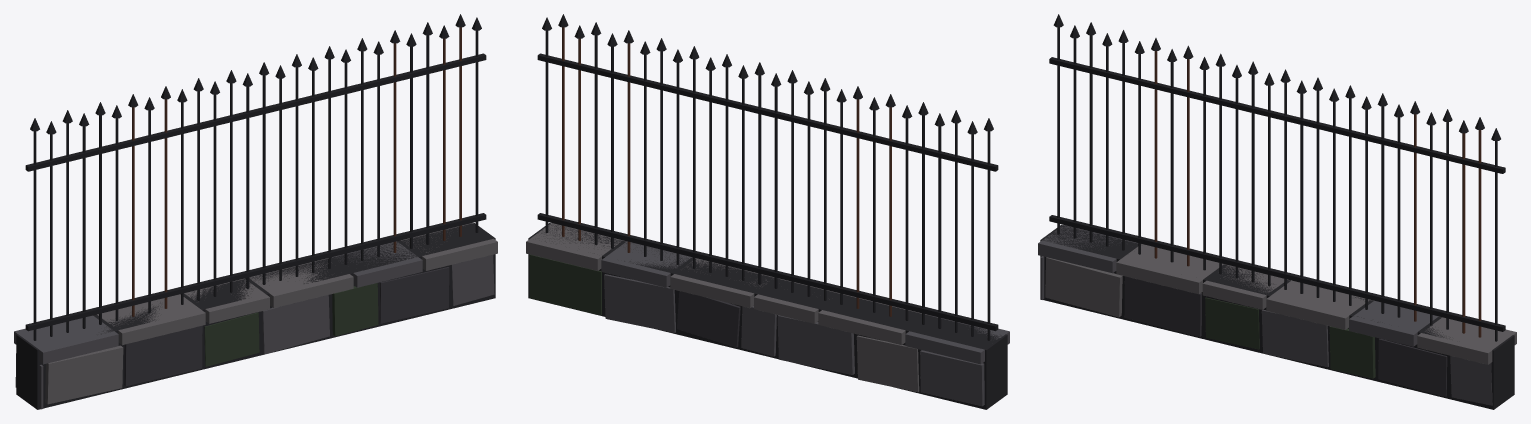
The model's file is SM_ENV_GradeFerro.fbx.
3 renders of one model, left to right at view 1: azimuth 30°, elevation 25°; view 2: azimuth 150°, elevation 25°; view 3: azimuth 330°, elevation 25°, orthographic.
Visible parts, largest first — view 1: SM_ENV_GradeFerro; view 2: SM_ENV_GradeFerro; view 3: SM_ENV_GradeFerro.
Boxes of the visible parts, x1,y1,x2,y2 form: SM_ENV_GradeFerro: [14, 14, 497, 409]; SM_ENV_GradeFerro: [526, 14, 1009, 409]; SM_ENV_GradeFerro: [1038, 14, 1516, 409].
Size of the model in its own units: 4 by 2.36 by 0.44.
